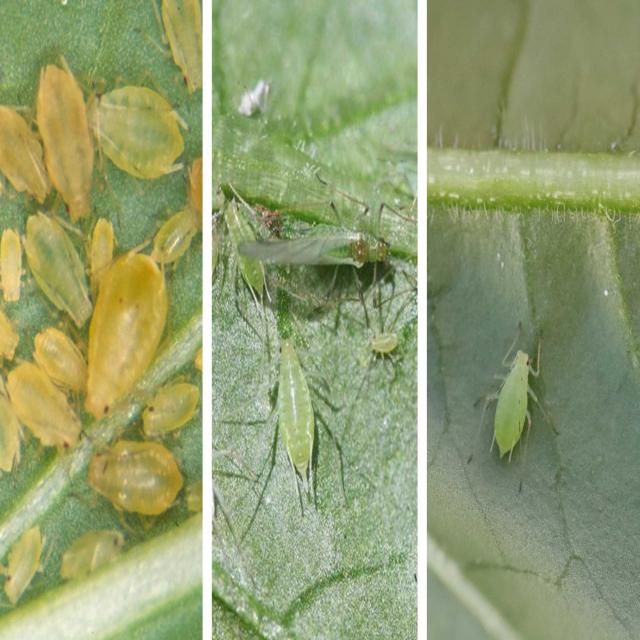Aphid-Grown-: (78, 243, 175, 422), (258, 321, 340, 493), (84, 60, 188, 194), (480, 308, 558, 475), (32, 53, 104, 221), (82, 427, 183, 524), (18, 208, 98, 328), (5, 360, 88, 454), (0, 520, 54, 620), (29, 321, 94, 401), (136, 369, 202, 441), (144, 188, 198, 275), (361, 308, 406, 368)
Aphid-Grown-have wings-: (238, 204, 400, 304)
